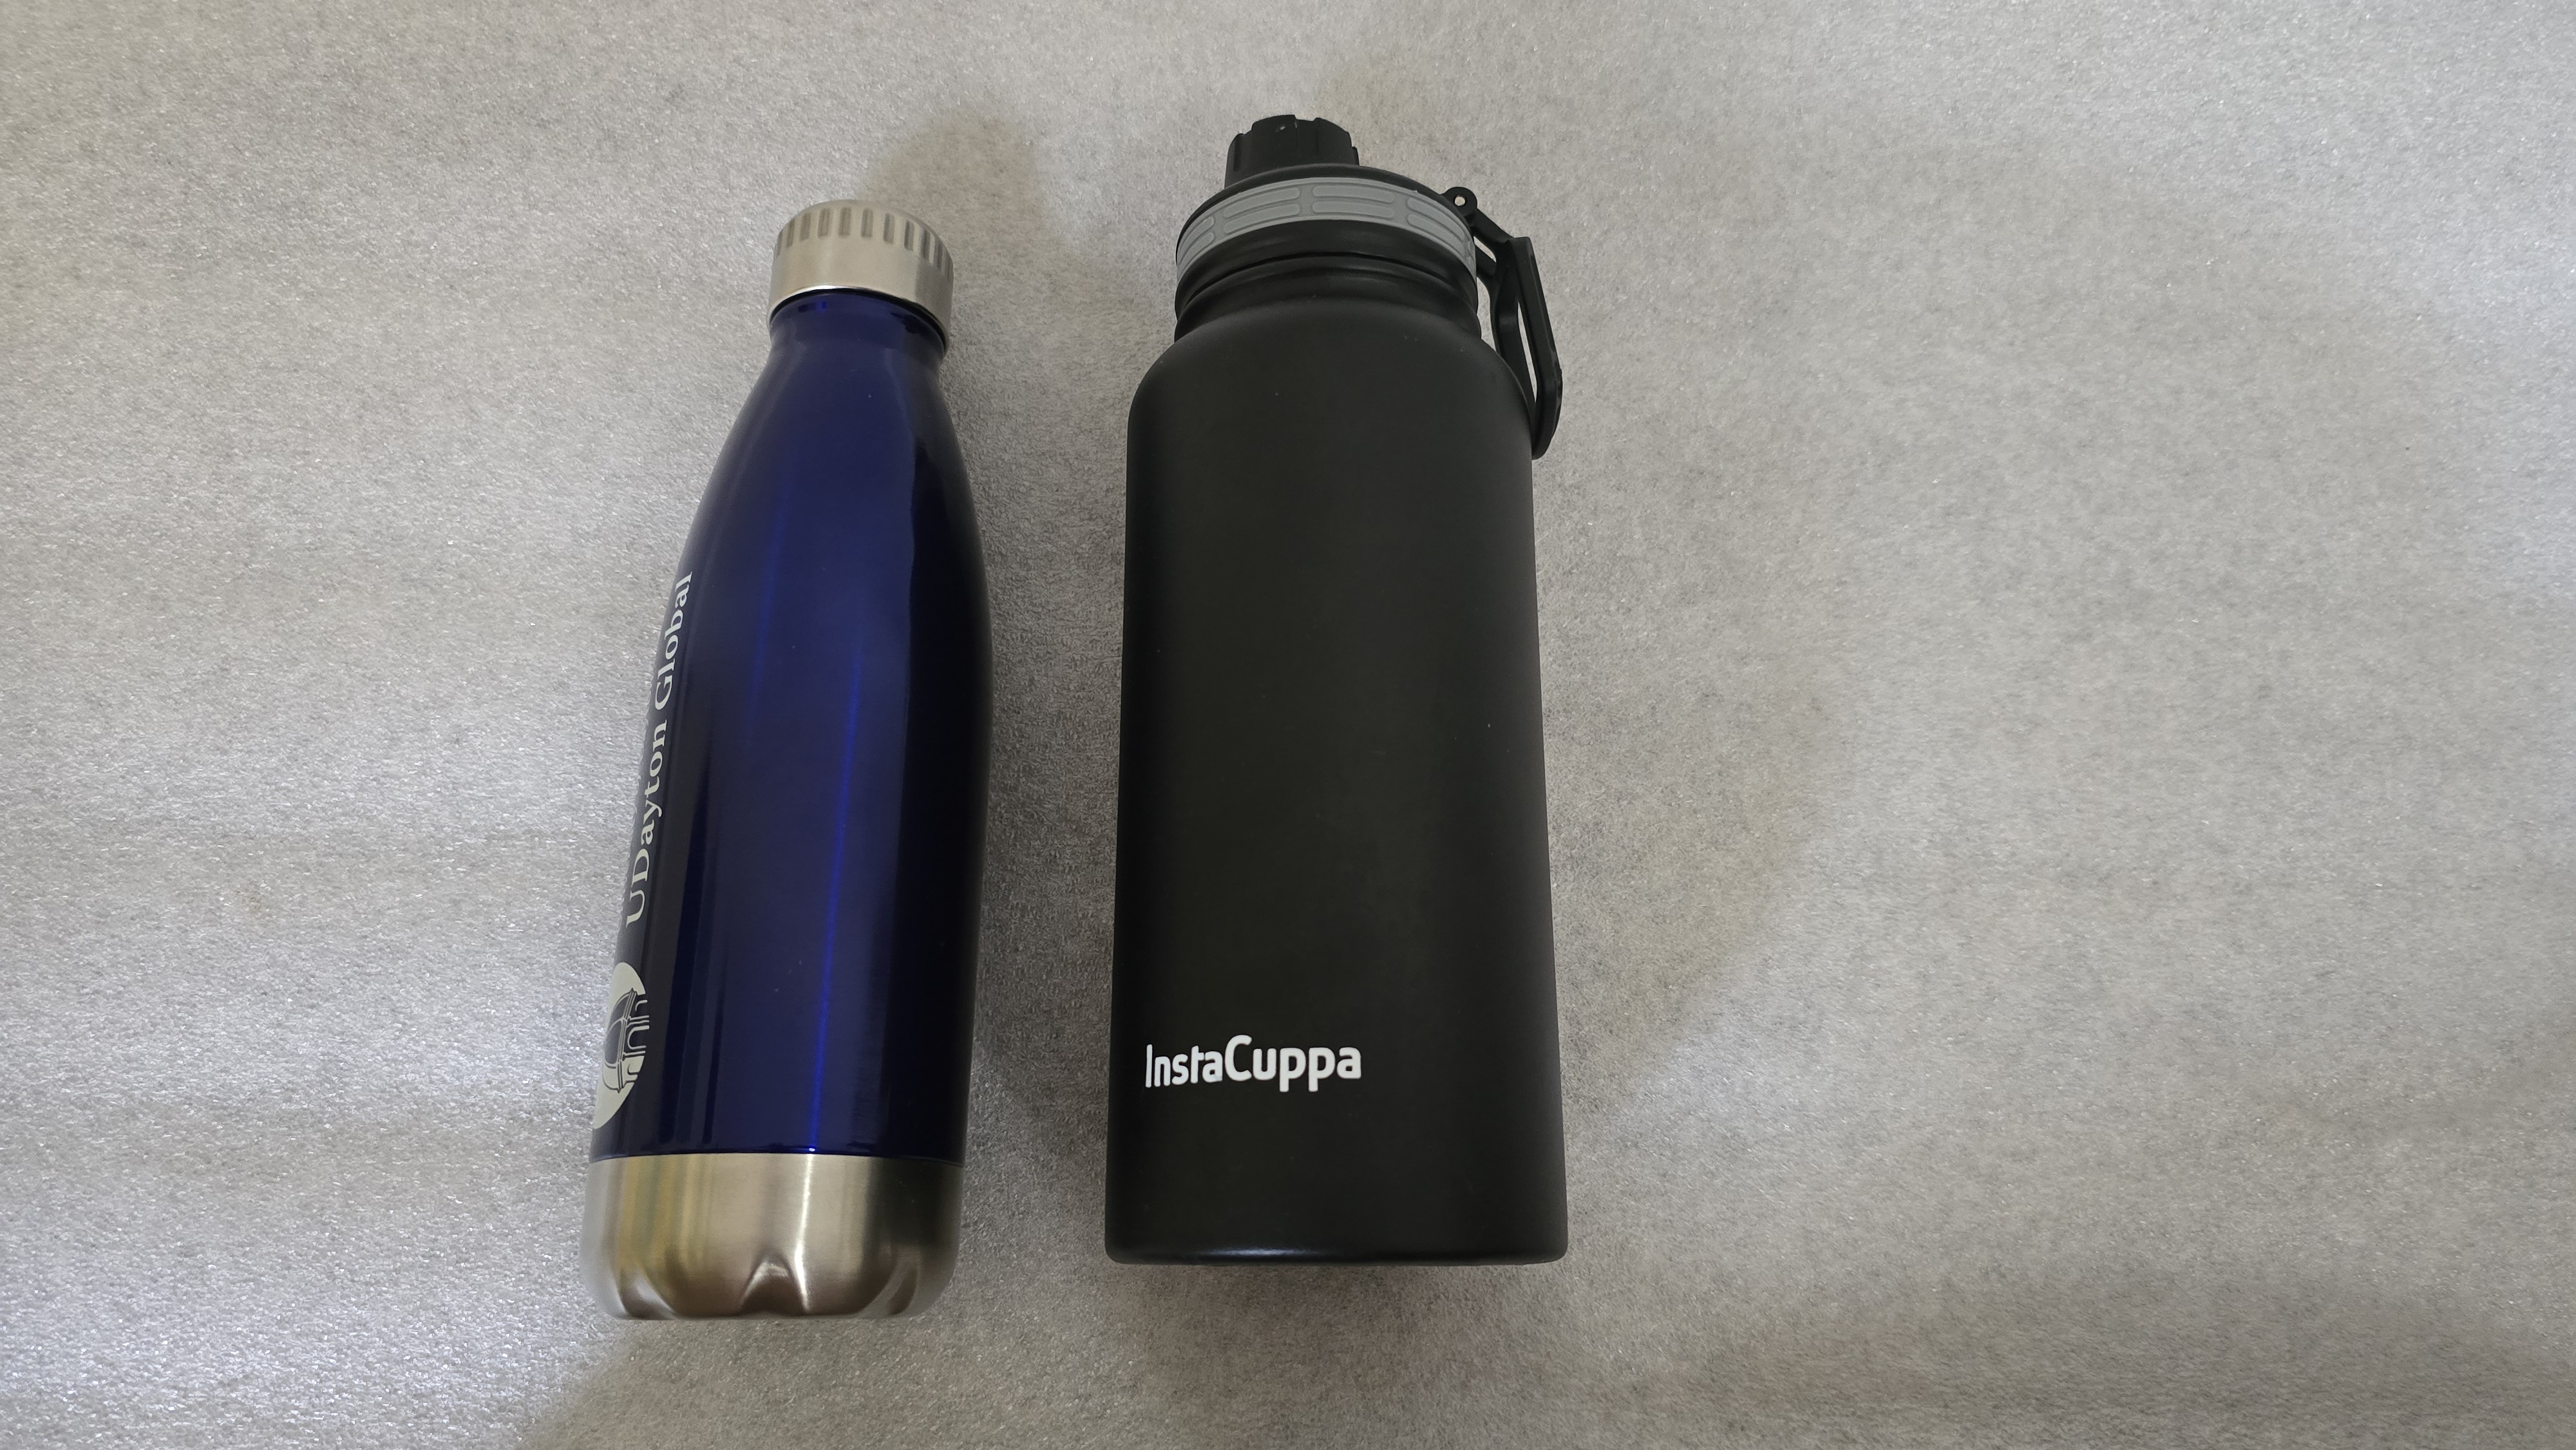bottle: (1115, 74, 1605, 1301), (557, 147, 1003, 1353)
